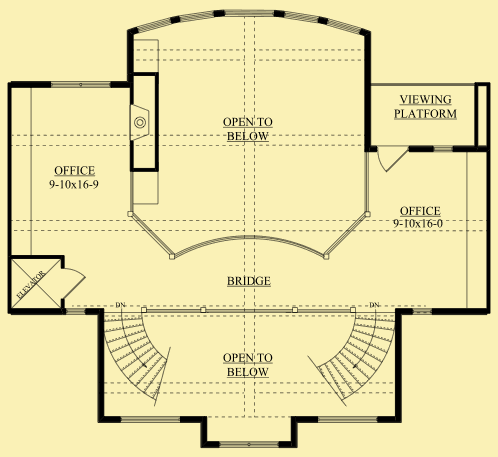door: (374, 145, 409, 175), (57, 266, 87, 301)
stairs: (316, 313, 395, 403), (100, 309, 168, 403)
window: (136, 9, 363, 38), (120, 411, 181, 424), (317, 414, 380, 426), (51, 79, 110, 91), (217, 440, 280, 449), (63, 305, 88, 315), (431, 144, 454, 153)
